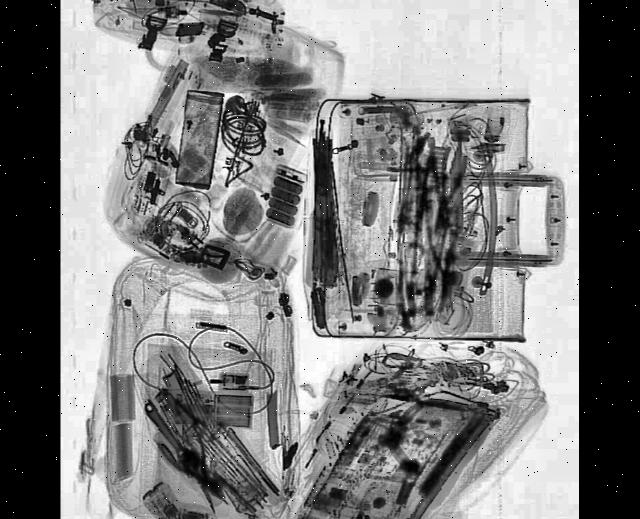Pliers: (158, 412, 239, 518)
